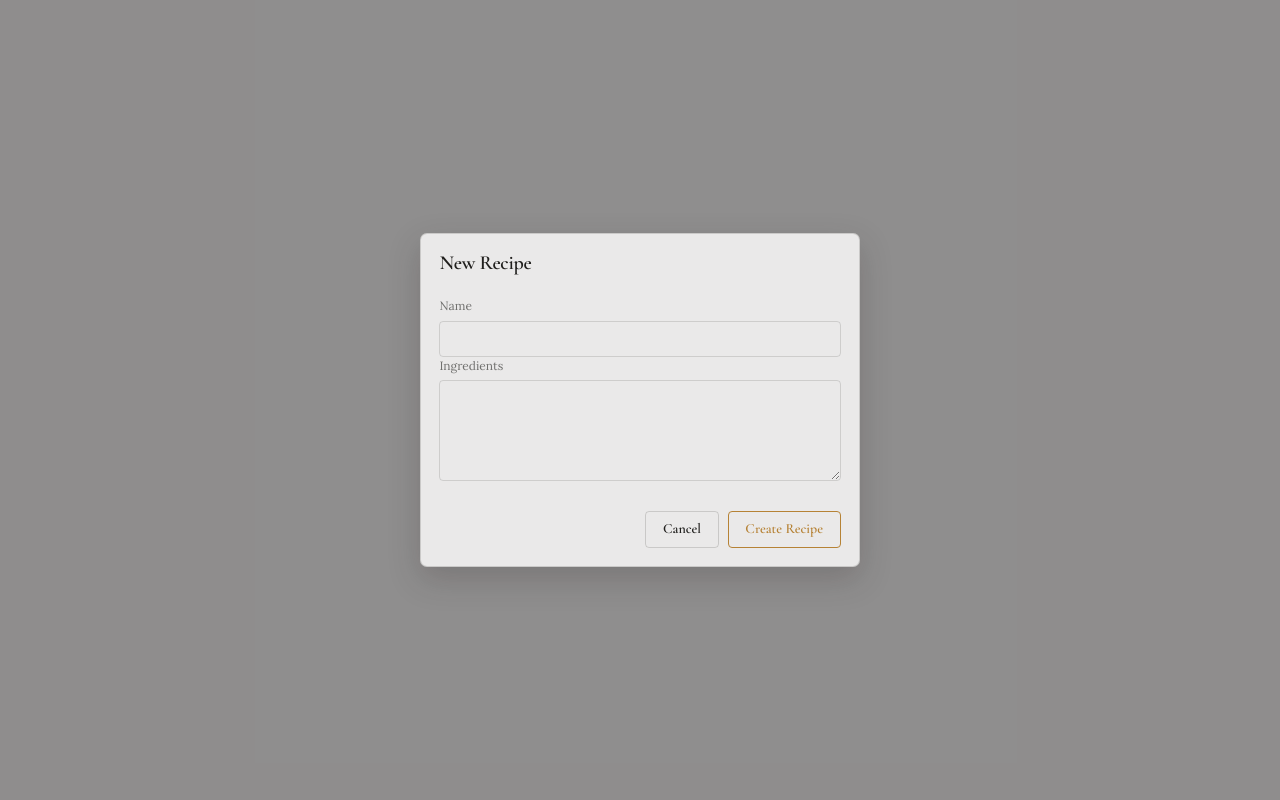
Scenario: NewRecipeModal › shows the server's error message on failure
In the field labelled "Name": (640, 339) [439,321,841,357], type "Traditional Mead"
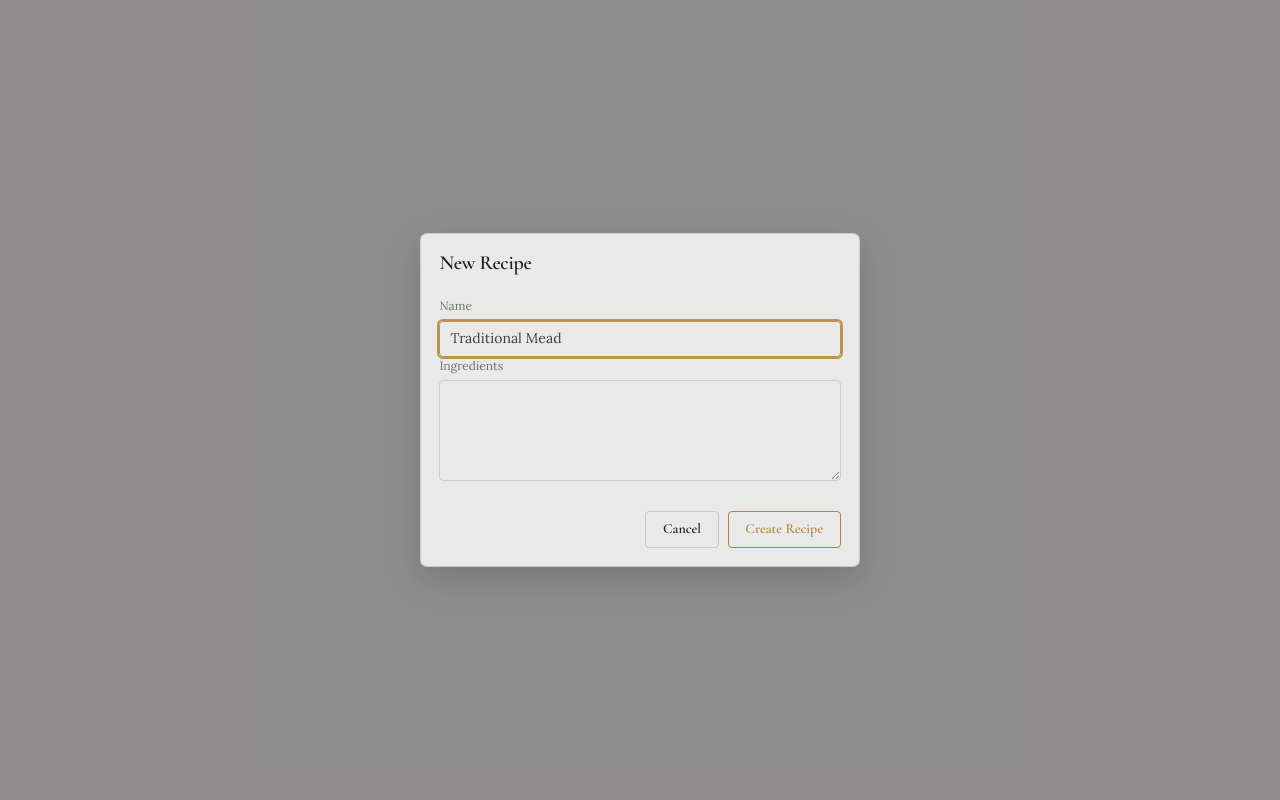
In the text box labelled "Ingredients": (640, 431) [439,380,841,481], type "honey, water, yeast"
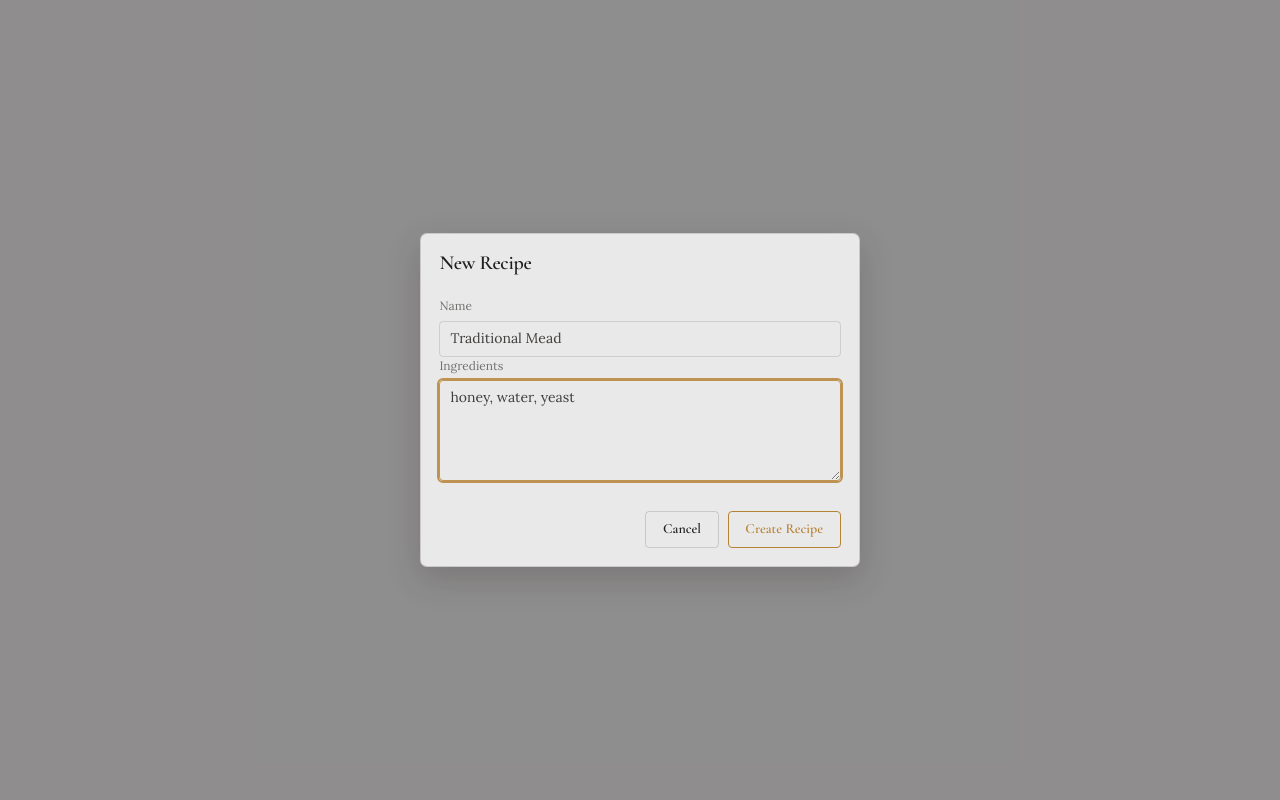
Click the button "Create Recipe": click(784, 530) [728,511,841,548]
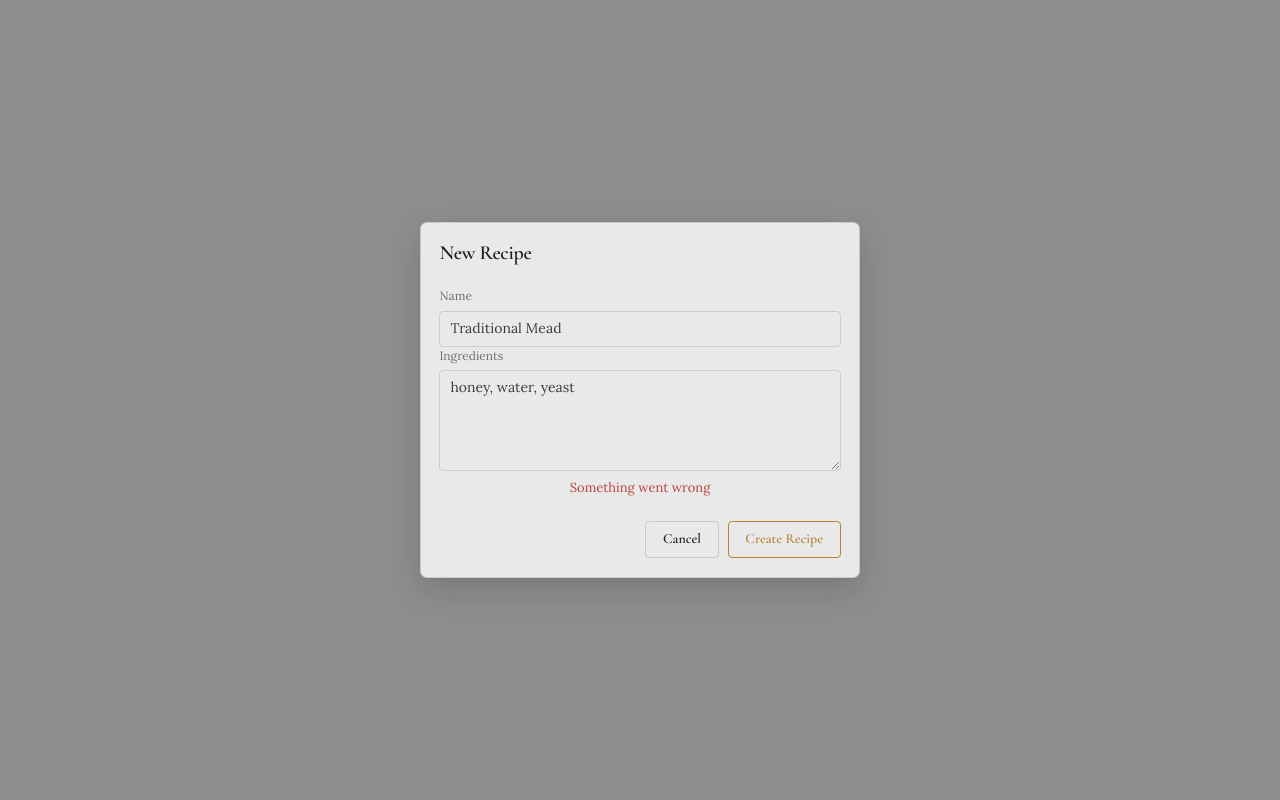
Expected: the text "Something went wrong" is shown, [570,479,710,496]
